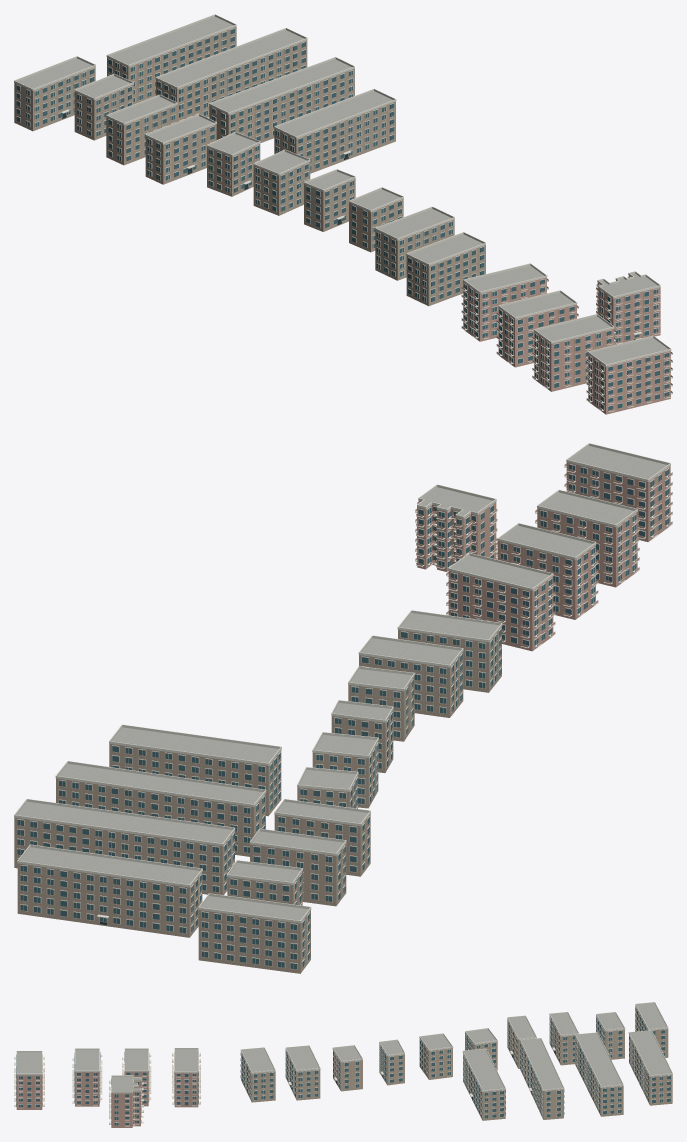
The model's file is chunk-n3-n1.glb.
3 views of the same model, one above another, from view 1: azimuth 30°, elevation 25°; view 2: azimuth 150°, elevation 25°; view 3: azimuth 270°, elevation 25° (orthographic). The views are drawn at different scales.
Visible parts, largest first — view 1: chunk-n3-n1; view 2: chunk-n3-n1; view 3: chunk-n3-n1.
Part boxes in pixels (x1=…): chunk-n3-n1: x1=14, y1=14, x2=672, y2=414; chunk-n3-n1: x1=14, y1=443, x2=672, y2=973; chunk-n3-n1: x1=14, y1=1002, x2=672, y2=1127.
Bounding box in the file's own units: 120 × 24.17 × 350.
Materials: 6 (2 with a texture image).
